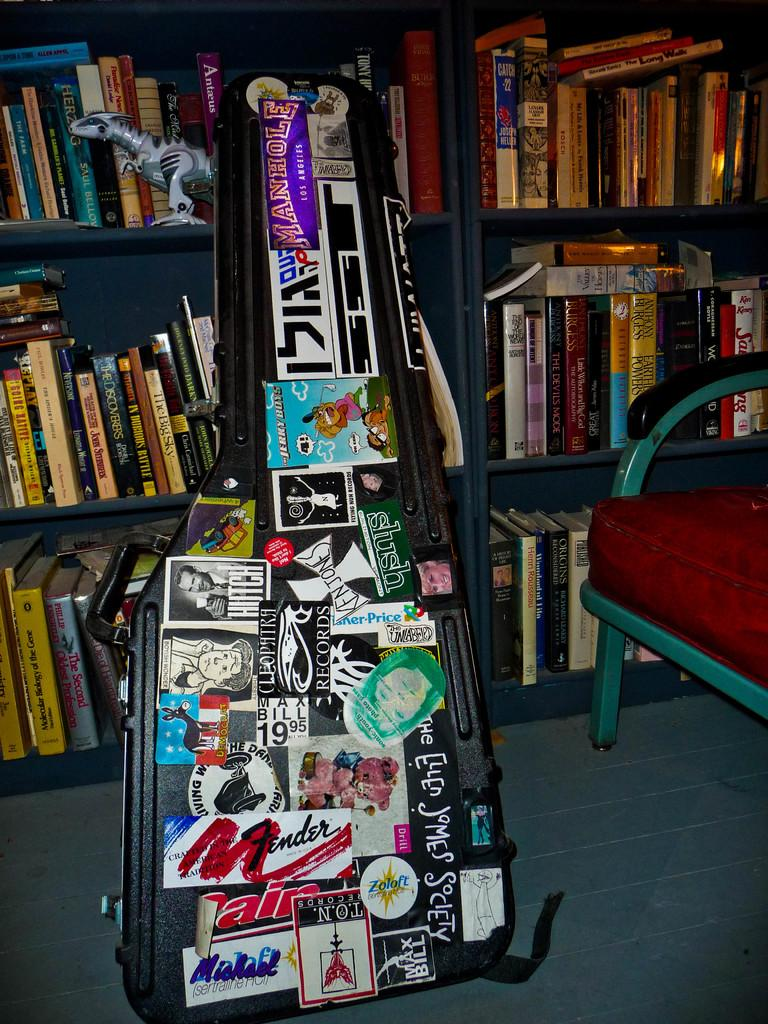Chair: (579, 350, 767, 751)
Luggage-and-bags: (85, 67, 560, 1020)
